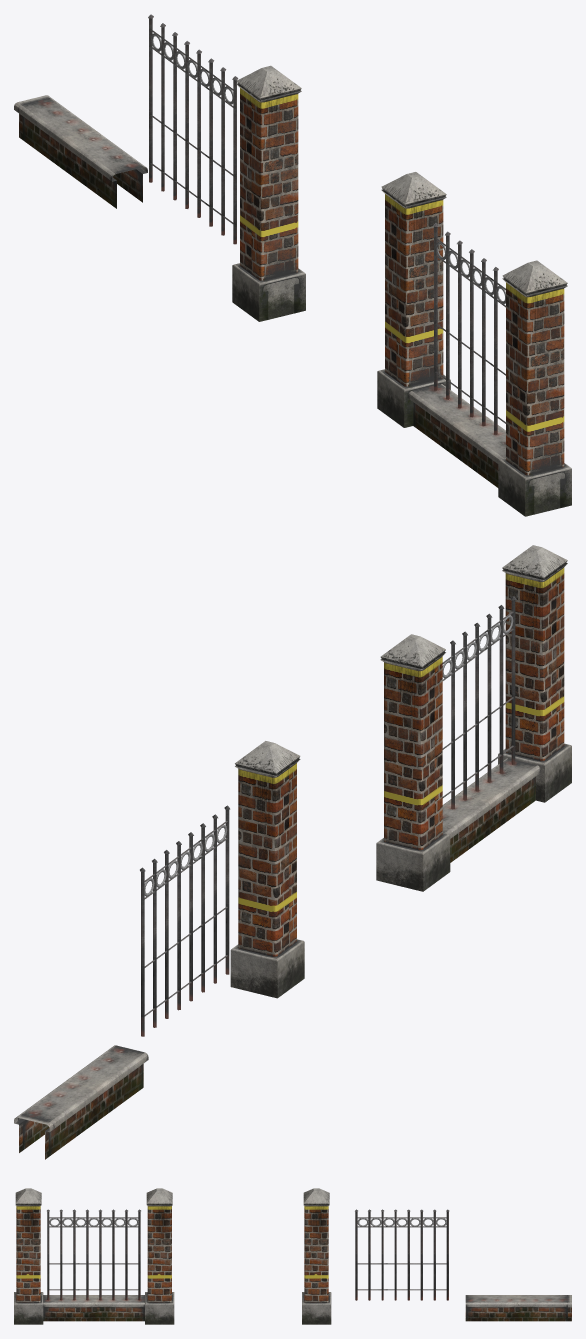
Rendered from procedural_fence_wall.glb.
The picture shows the model from 3 angles, top to bottom: view 1: azimuth 30°, elevation 25°; view 2: azimuth 150°, elevation 25°; view 3: azimuth 270°, elevation 25°; orthographic projection. The views are drawn at different scales.
Parts seen in each view (by area): view 1: Complete_fence, brick_pillar1, brick_wall1, Grill1; view 2: Complete_fence, brick_pillar1, brick_wall1, Grill1; view 3: Complete_fence, brick_pillar1, Grill1, brick_wall1.
Part boxes in pixels (box(x1,y1,x2,y2)): Complete_fence: box(377, 172, 571, 516); brick_pillar1: box(232, 65, 305, 321); brick_wall1: box(14, 95, 147, 208); Grill1: box(148, 14, 238, 244); Complete_fence: box(376, 545, 571, 891); brick_pillar1: box(230, 741, 304, 998); brick_wall1: box(14, 1045, 148, 1159); Grill1: box(140, 805, 230, 1036); Complete_fence: box(14, 1188, 174, 1324); brick_pillar1: box(302, 1188, 331, 1324); Grill1: box(355, 1209, 449, 1300); brick_wall1: box(465, 1295, 571, 1321).
Bounding box in the file's own units: 0.2915 × 1.42 × 5.57.
Materials: 1 (1 with a texture image).
